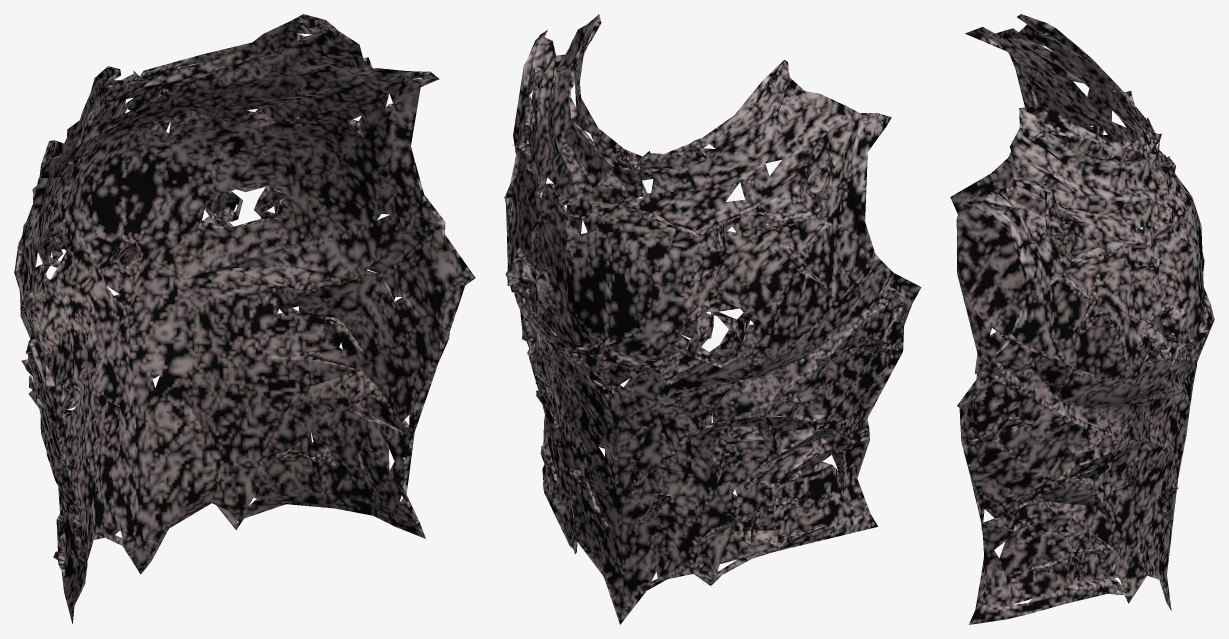
File: vampire_chestplate_LOD2.glb
3 renders of one model, left to right at view 1: azimuth 30°, elevation 25°; view 2: azimuth 150°, elevation 25°; view 3: azimuth 270°, elevation 25°, orthographic. The views are drawn at different scales.
Visible parts, largest first — view 1: vampire_chestplate_LOD2; view 2: vampire_chestplate_LOD2; view 3: vampire_chestplate_LOD2.
Part boxes in pixels (x1,y1,x2,y2): vampire_chestplate_LOD2: [14, 14, 475, 623]; vampire_chestplate_LOD2: [504, 14, 921, 624]; vampire_chestplate_LOD2: [950, 14, 1214, 624].
Bounding box in the file's own units: 0.5853 × 0.7581 × 0.3295.
Materials: 1 (1 with a texture image).
